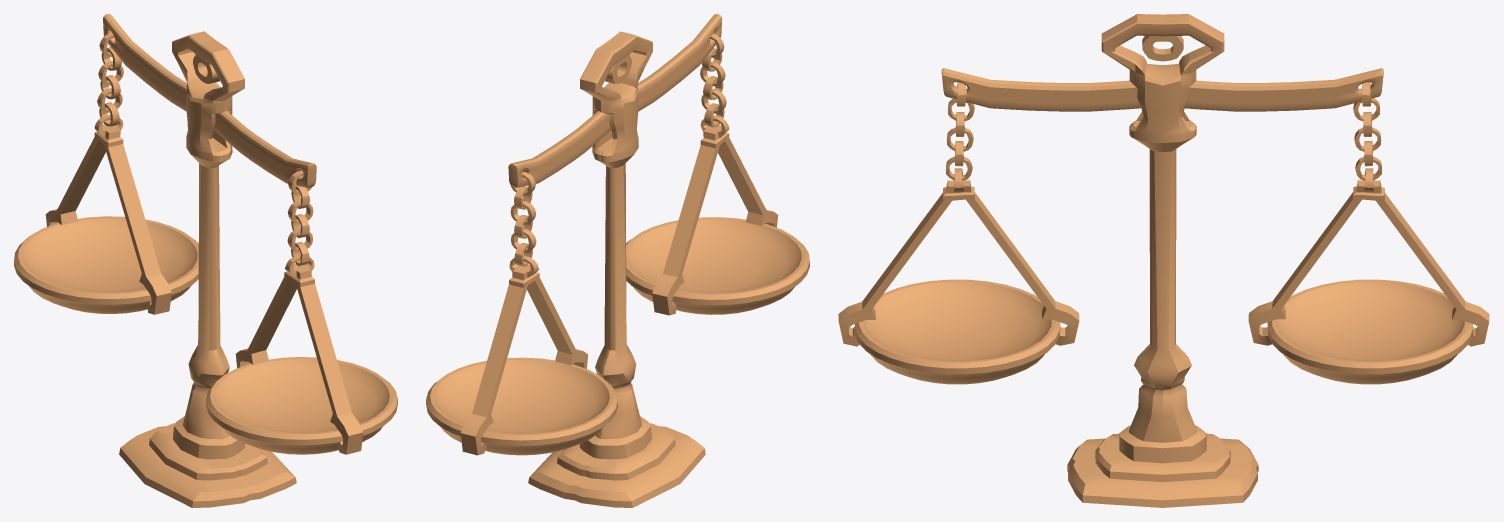
File: scale.fbx
3 views of the same model, side by side, from view 1: azimuth 30°, elevation 25°; view 2: azimuth 150°, elevation 25°; view 3: azimuth 270°, elevation 25° (orthographic). The views are drawn at different scales.
Visible parts, largest first — view 1: scale 03, scale 01, scale 02; view 2: scale 03, scale 01, scale 02; view 3: scale 03, scale 01, scale 02.
Boxes of the visible parts, x1,y1,x2,y2 form: scale 03: [14, 32, 397, 454]; scale 01: [119, 31, 296, 507]; scale 02: [103, 14, 316, 187]; scale 03: [426, 33, 809, 455]; scale 01: [528, 31, 705, 507]; scale 02: [508, 14, 722, 187]; scale 03: [838, 82, 1489, 384]; scale 01: [1067, 14, 1258, 507]; scale 02: [941, 68, 1383, 111].
Size of the model in its own units: 0.0708 by 0.1749 by 0.2241.
